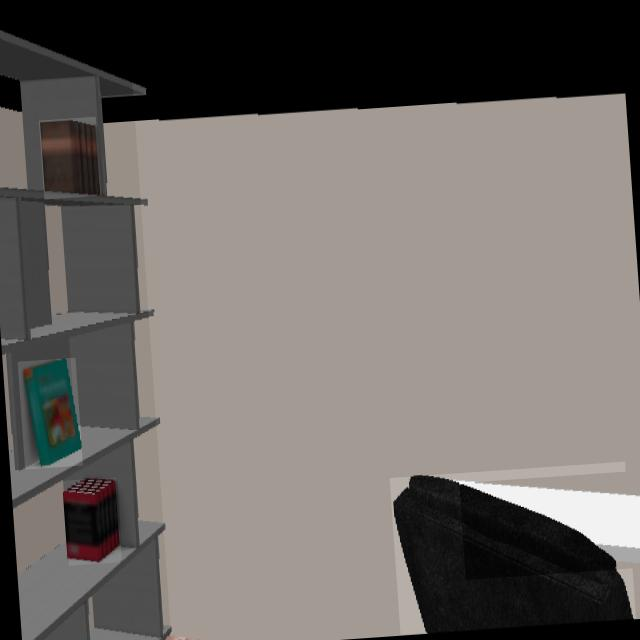book: (18, 358, 81, 467), (39, 119, 100, 195), (63, 479, 118, 563)
bookshelf: (0, 31, 164, 640)
chair: (393, 476, 635, 632)
table: (460, 483, 640, 565)
